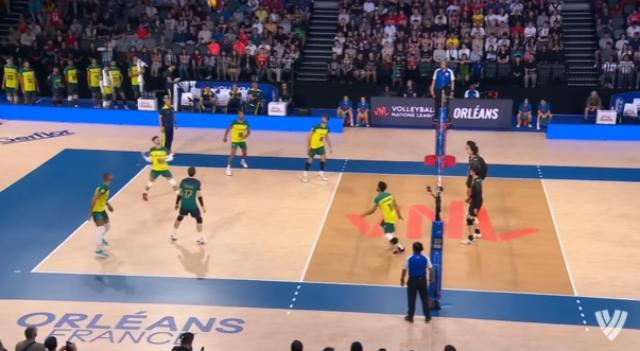Levantador: (348, 177, 422, 261)
Libero: (165, 161, 215, 247)
bola: (200, 0, 222, 12)
